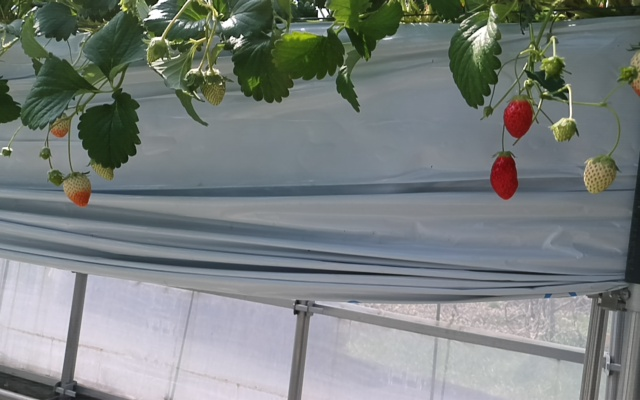GreenStrawberry: (582, 152, 621, 198), (62, 171, 92, 210), (200, 68, 227, 107), (625, 40, 640, 103), (85, 154, 116, 183), (141, 36, 169, 68), (551, 120, 578, 144), (49, 112, 71, 138)
MatureStrawberry: (489, 150, 519, 202), (502, 95, 535, 141)
